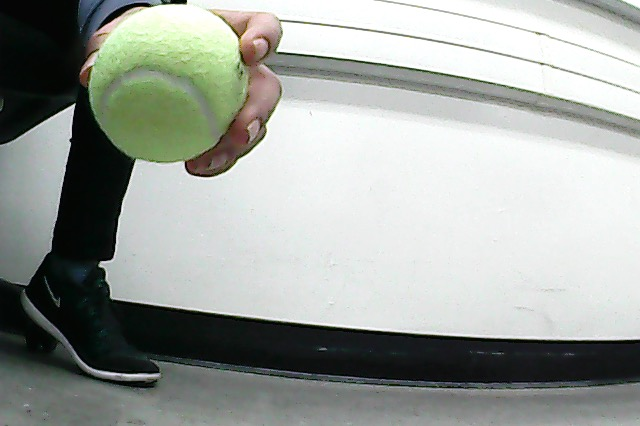ball: (91, 5, 253, 168)
